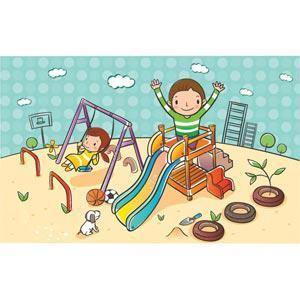dog: (72, 211, 104, 237)
person: (147, 75, 224, 148), (59, 127, 115, 175)
